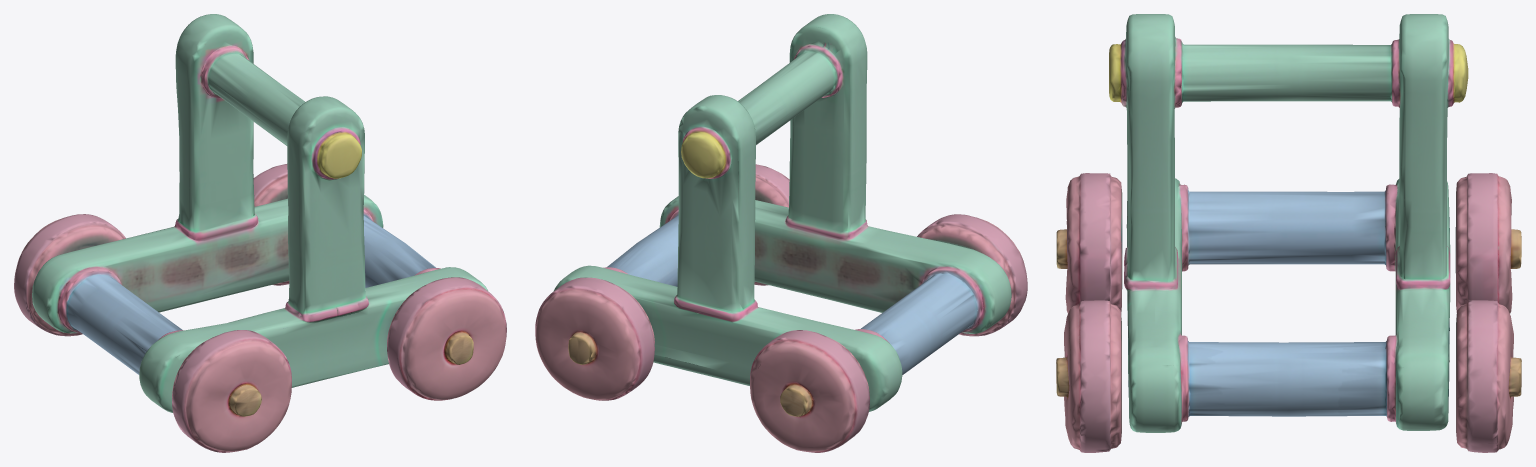
3 renders of one model, left to right at view 1: azimuth 30°, elevation 25°; view 2: azimuth 150°, elevation 25°; view 3: azimuth 270°, elevation 25°, orthographic. The views are drawn at different scales.
Visible parts, largest first — view 1: repaired; view 2: repaired; view 3: repaired.
Part boxes in pixels (x1,y1,x2,y2): repaired: (14,14,506,452); repaired: (535,14,1027,452); repaired: (1056,14,1521,452).
Bounding box in the file's own units: 0.9994 × 0.8513 × 0.9749.
1 material, 1 textured.
